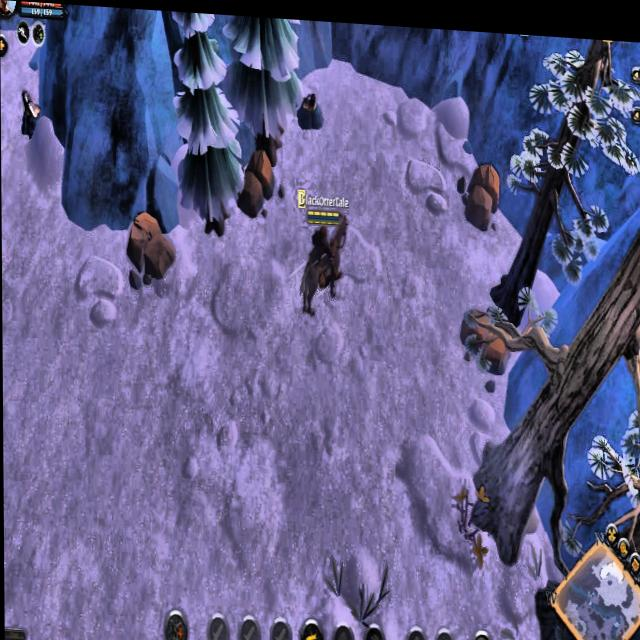copperore: (16, 84, 45, 142), (295, 84, 328, 128)
limestone: (457, 299, 515, 371), (124, 207, 177, 284), (232, 141, 274, 219), (460, 153, 502, 228)
